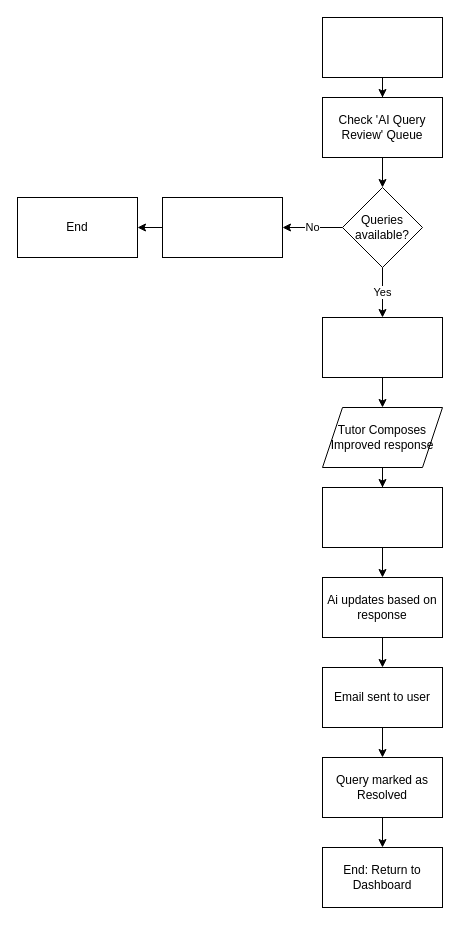
This 460x925 diagram has some shape labels left out. Each missing label, with the centre of its shape:
"Display 'No pending queries'" belongs at (x=222, y=227).
"Review Query Details" belongs at (x=382, y=347).
"Start: Tutor Logs in" belongs at (x=382, y=47).
"Submit Response" belongs at (x=382, y=517).
